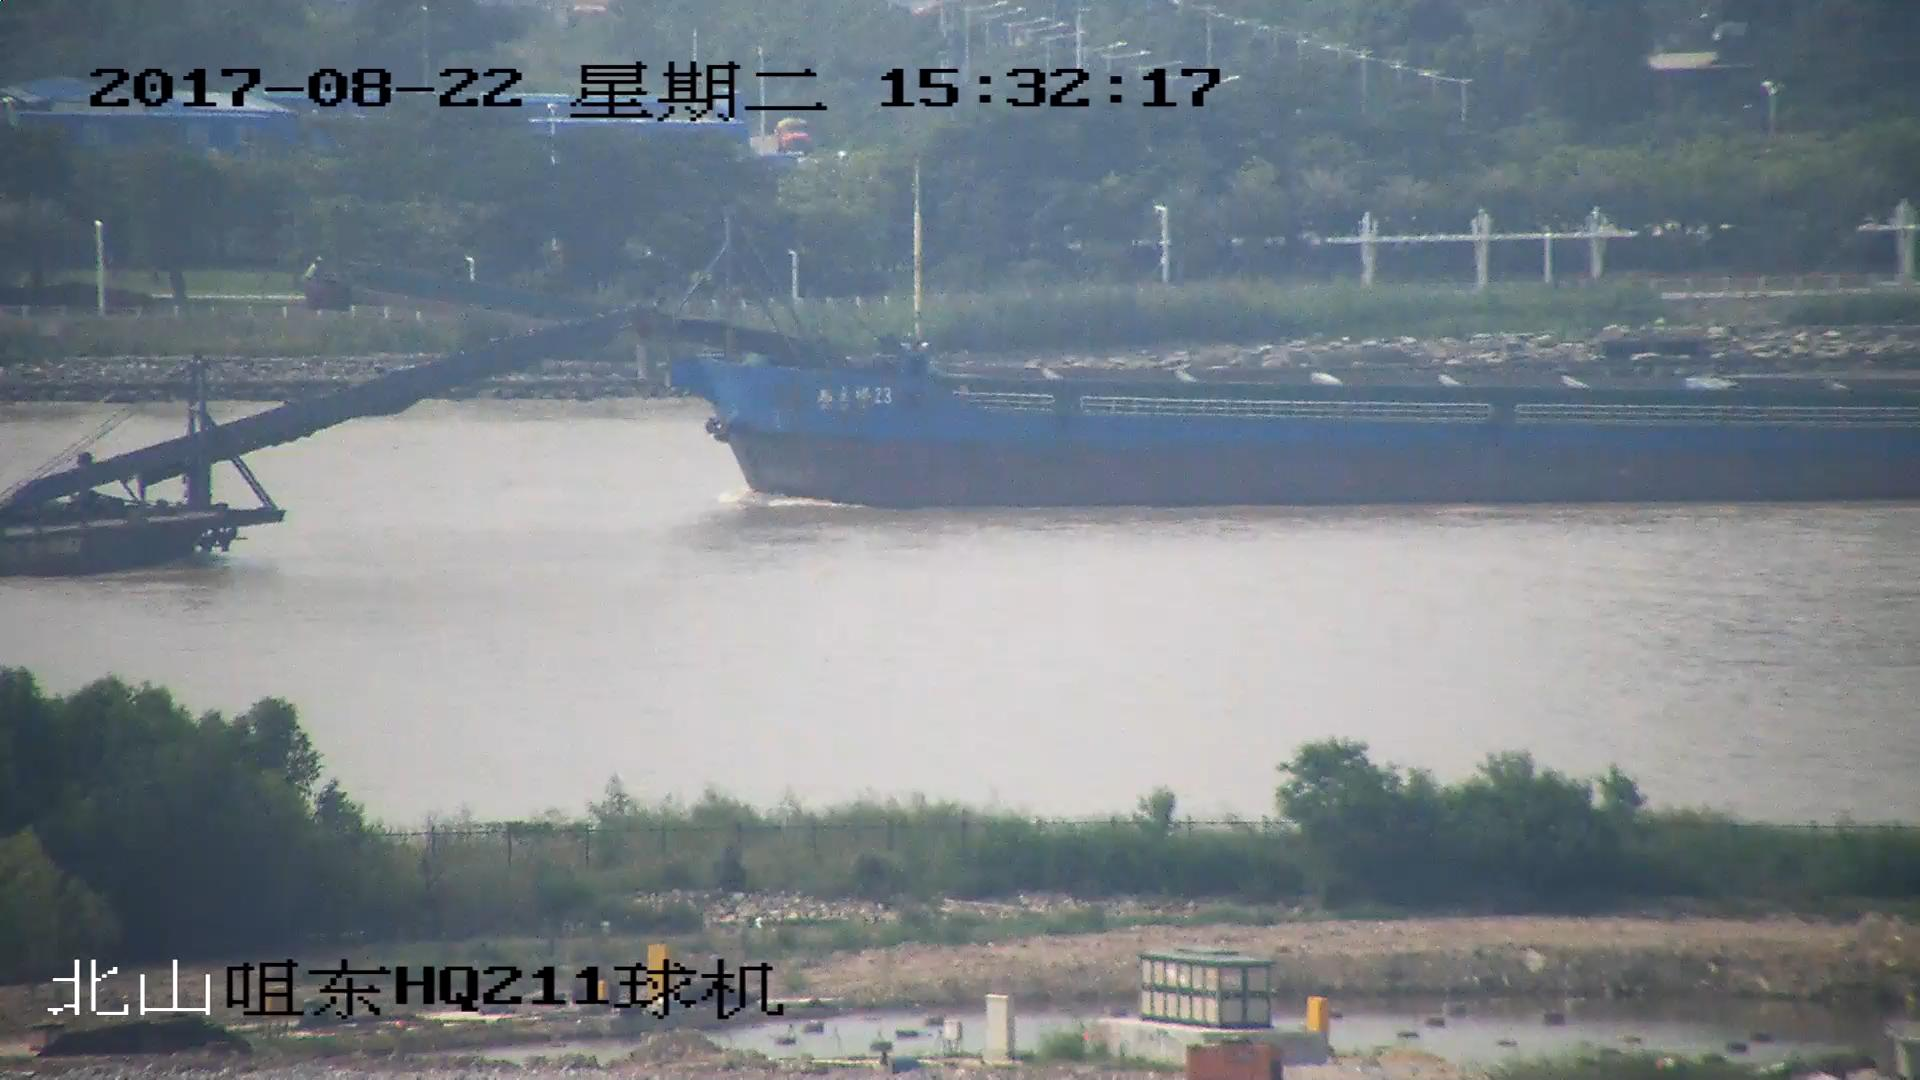bulk cargo carrier: (310, 258, 1920, 510)
ore carrier: (1, 314, 629, 582)
